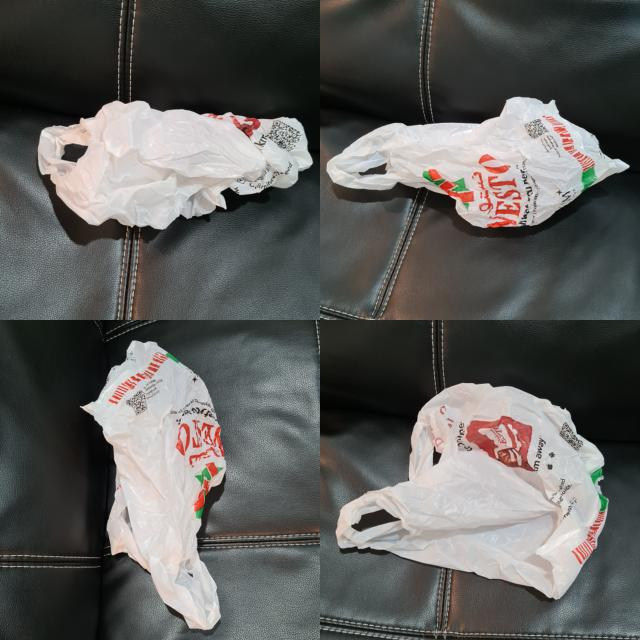Single-layer Plastic: (336, 384, 608, 599), (84, 341, 226, 630), (326, 98, 629, 228), (38, 101, 312, 229)
